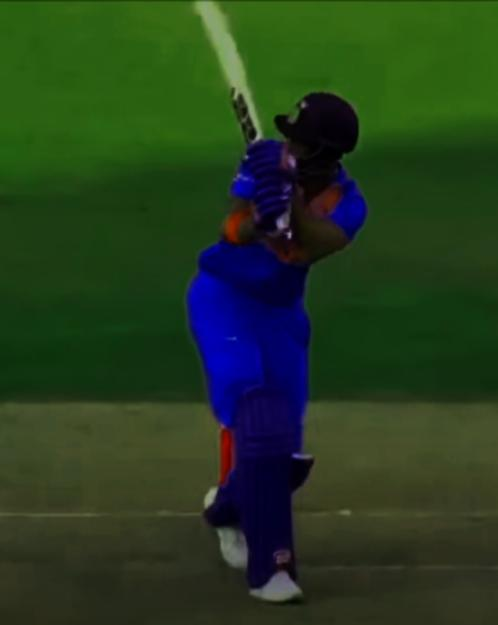batsman: (156, 0, 408, 625)
